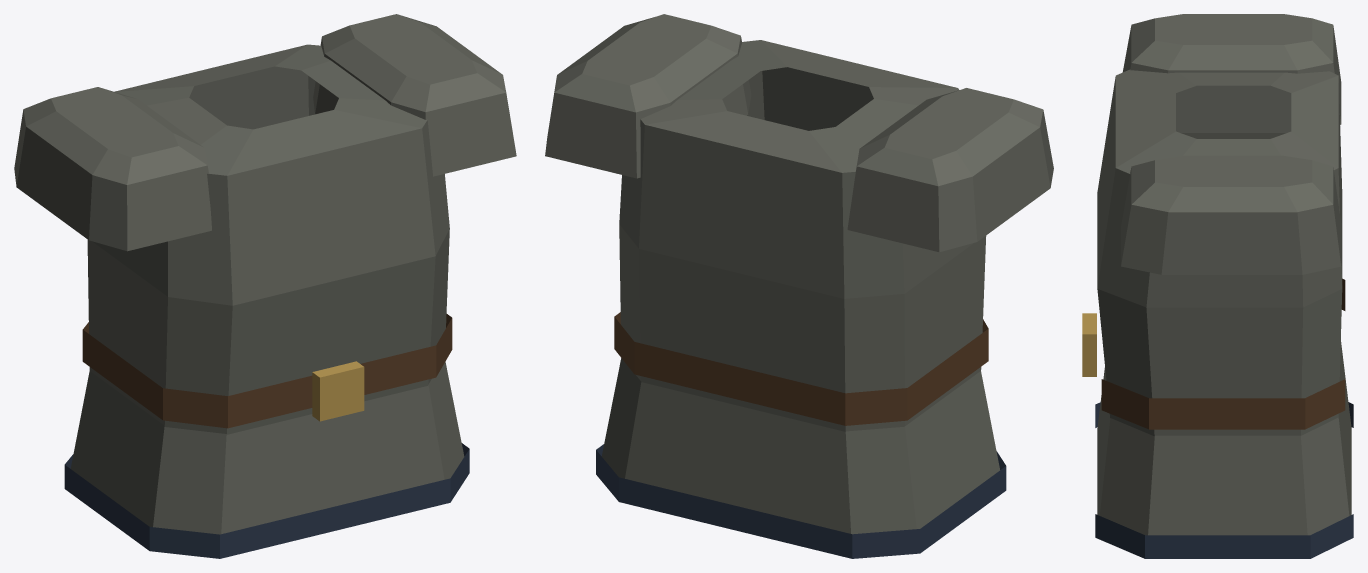
Rendered from mail.glb.
3 views of the same model, side by side, from view 1: azimuth 30°, elevation 25°; view 2: azimuth 150°, elevation 25°; view 3: azimuth 270°, elevation 25° (orthographic). The views are drawn at different scales.
Visible parts, largest first — view 1: mail_spine; view 2: mail_spine; view 3: mail_spine.
Part boxes in pixels (left/top/right/bottom): mail_spine: left=14, top=14, right=516, bottom=558; mail_spine: left=545, top=14, right=1053, bottom=558; mail_spine: left=1082, top=14, right=1353, bottom=558.
Bounding box in the file's own units: 0.91 × 0.805 × 0.518.
